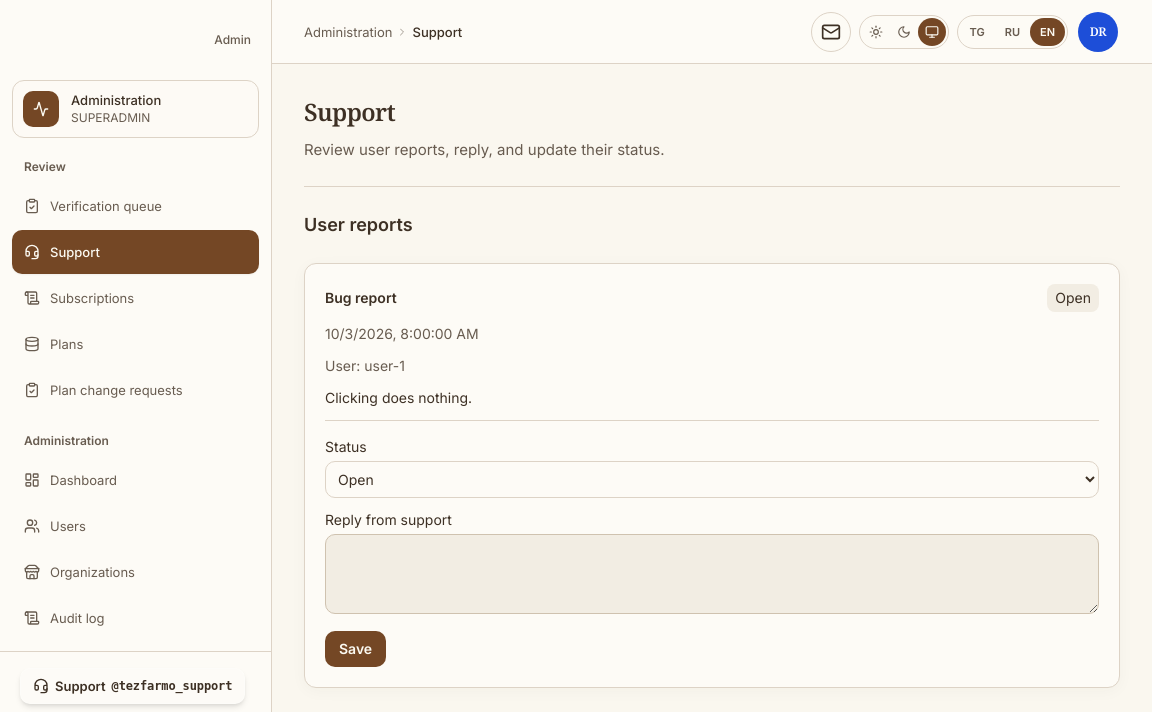
it: support › lets an administrator reply and resolve a report
The image size is (1152, 712).
Select "Resolved" in the dropdown labelled "Status" at {"x": 712, "y": 480}, box 325,461 -> 1099,498
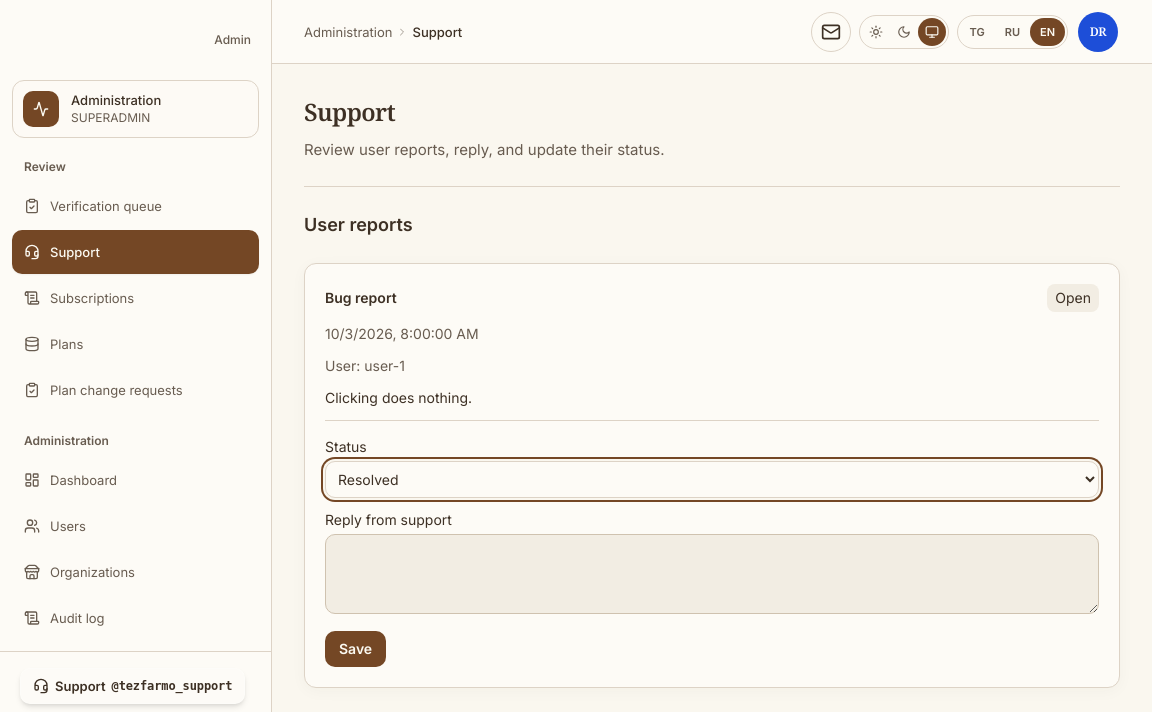
Type "Fixed today." into the text box labelled "Reply from support" at {"x": 712, "y": 574}, box 325,534 -> 1099,614
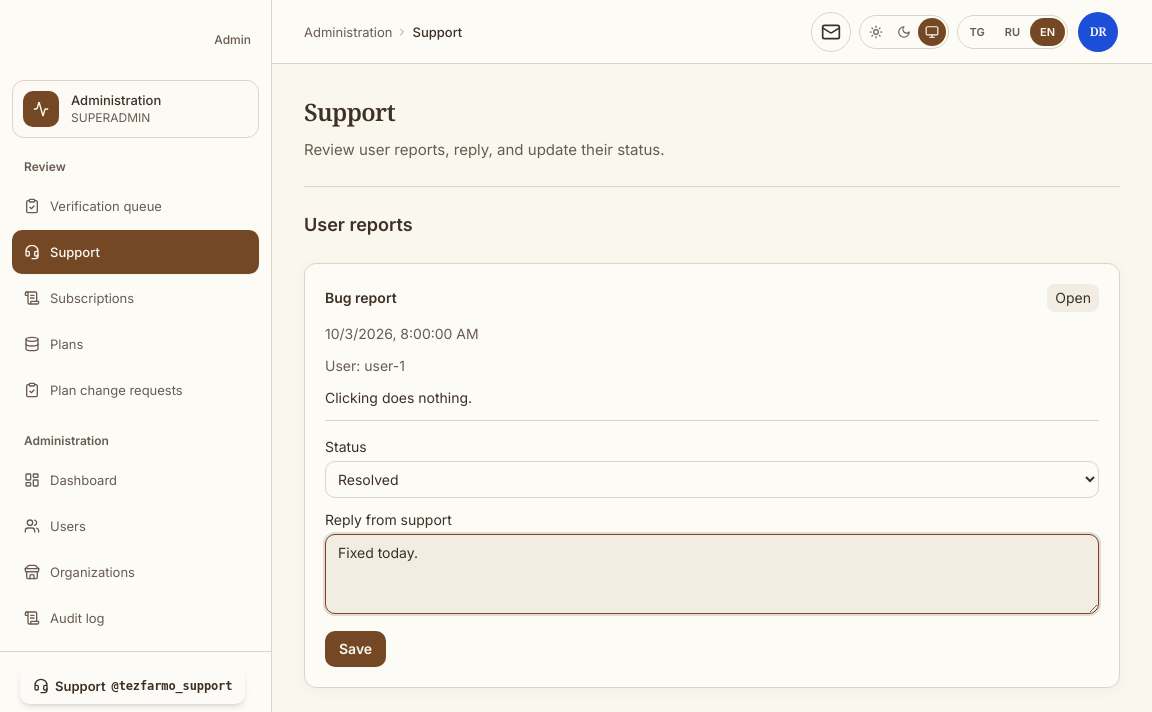
Click the button "Save" at {"x": 356, "y": 649}, box 325,631 -> 386,667
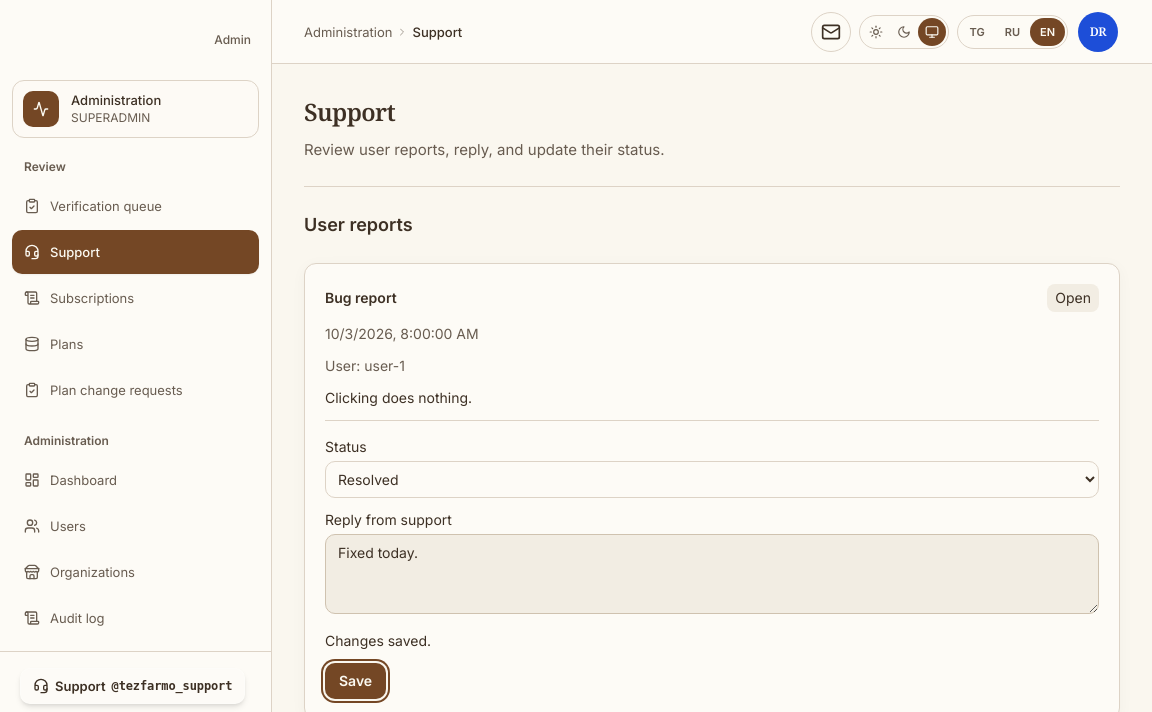
Expected: the text "Changes saved." is shown, 325,632 -> 431,649
